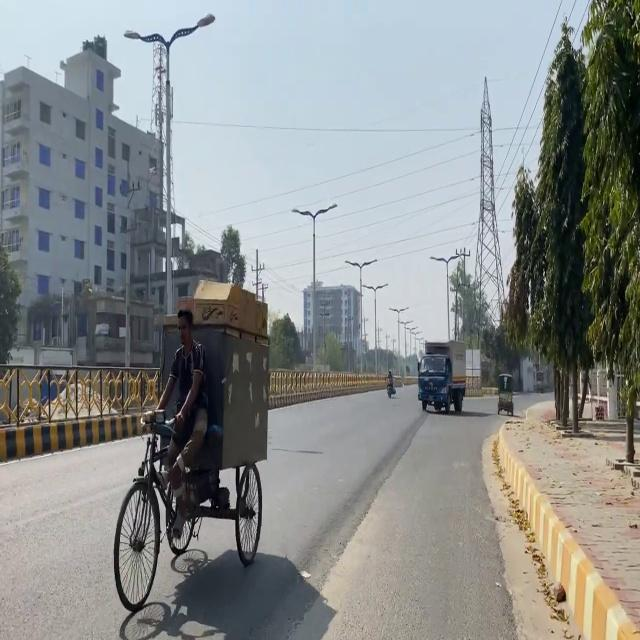Construction-barrier: (483, 465, 638, 638), (0, 407, 159, 463)
Garbage-bin: (151, 308, 228, 539)
Pothole: (409, 398, 640, 640)
Traffic-cone: (110, 276, 268, 608), (416, 339, 467, 413), (497, 373, 513, 415)
